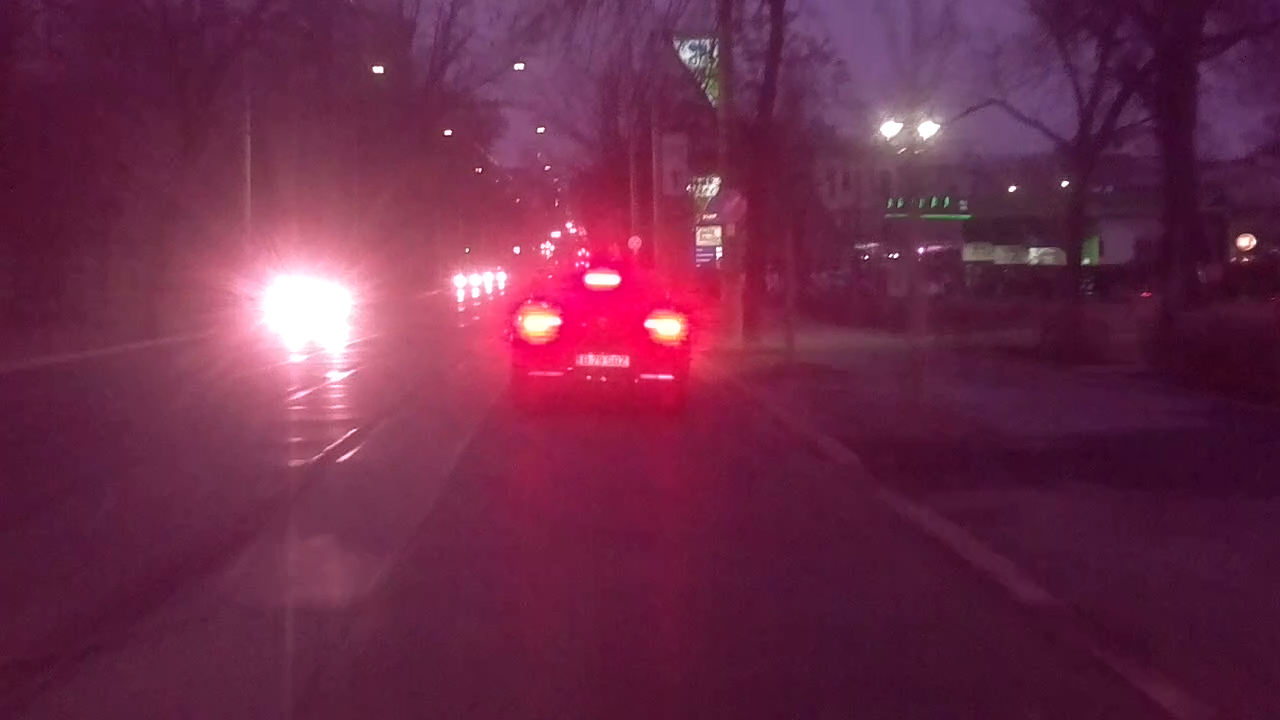license-plate: (573, 351, 631, 370)
